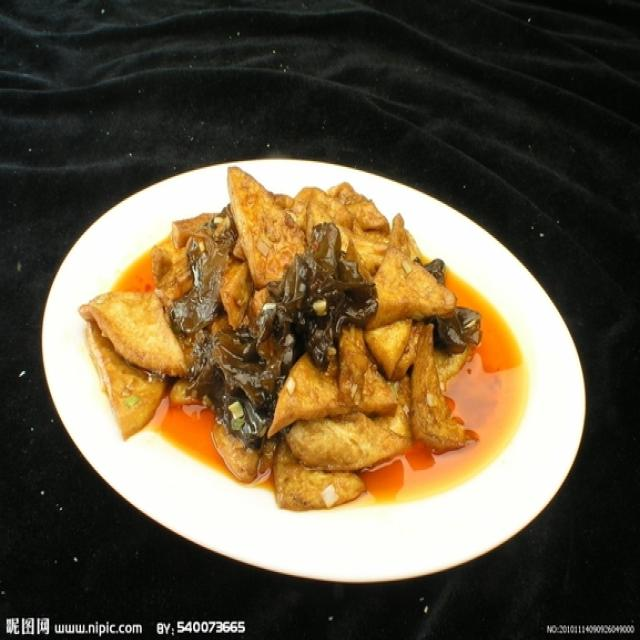豆腐料理: (55, 147, 559, 558)
